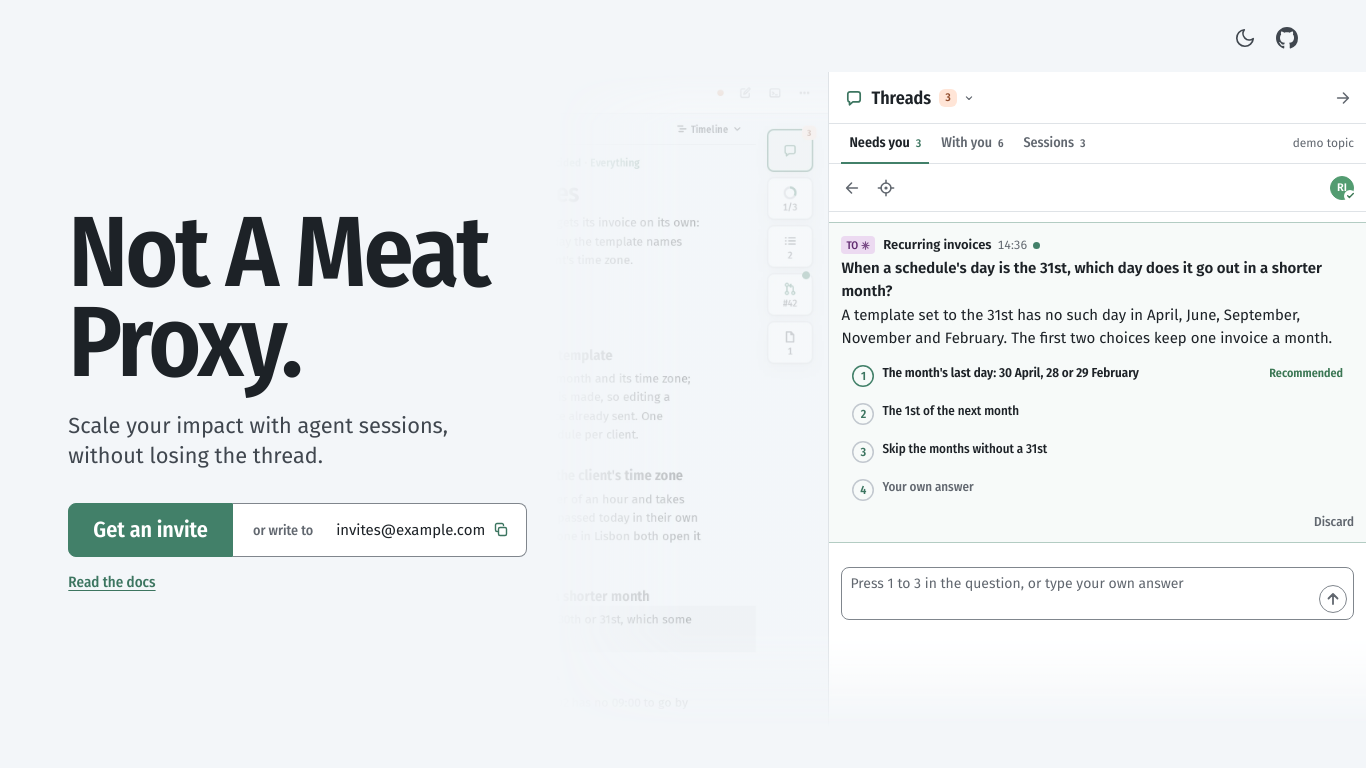
it: the drawer on the home page › once both are answered, the drawer shows what is left, the review, and the focus is on its title
Click the 1st button with class "choice". click: click(1098, 376)
box: [841,358,1354,394]
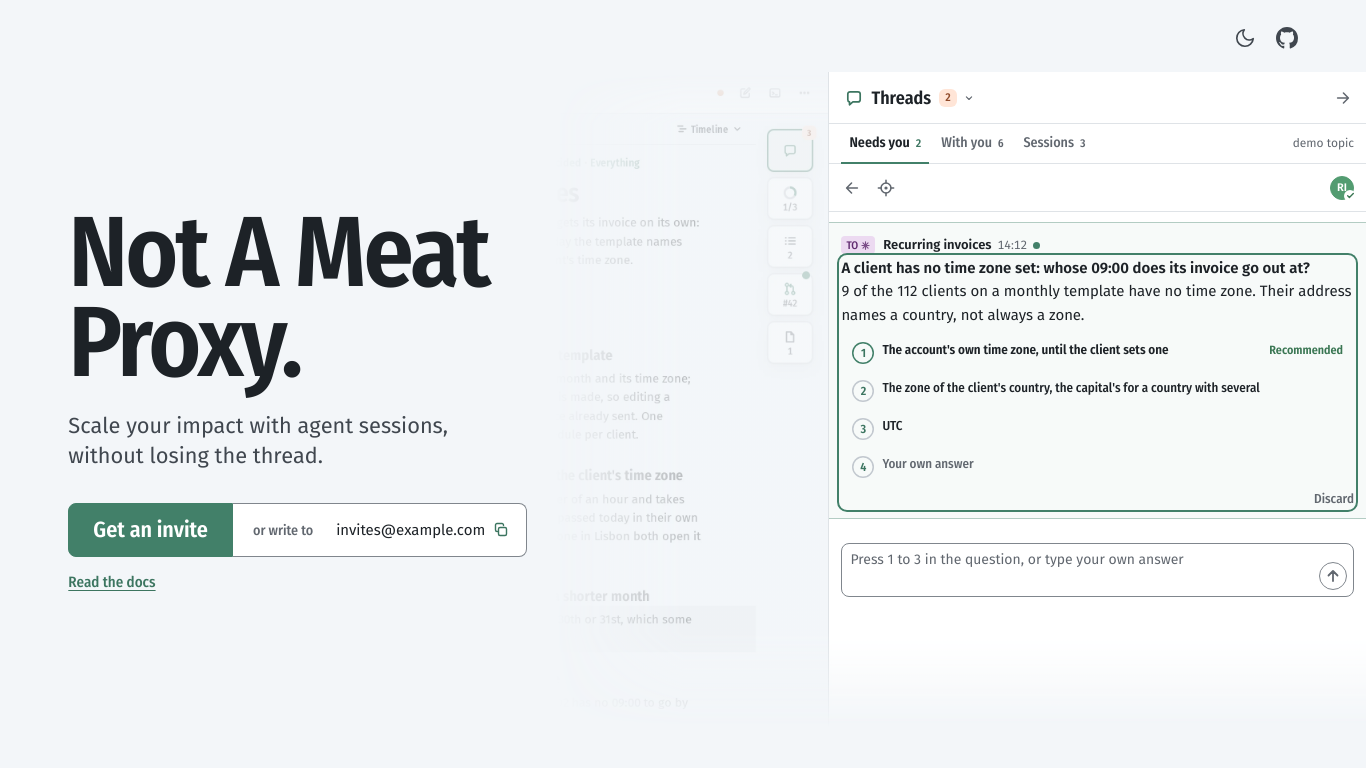
Expected: the element named "Question, Recurring invoices" has attribute data-question="no-time-zone", [841,257,1354,508]
Click the 1st button with class "choice". click: click(1098, 353)
box: [841,335,1354,371]
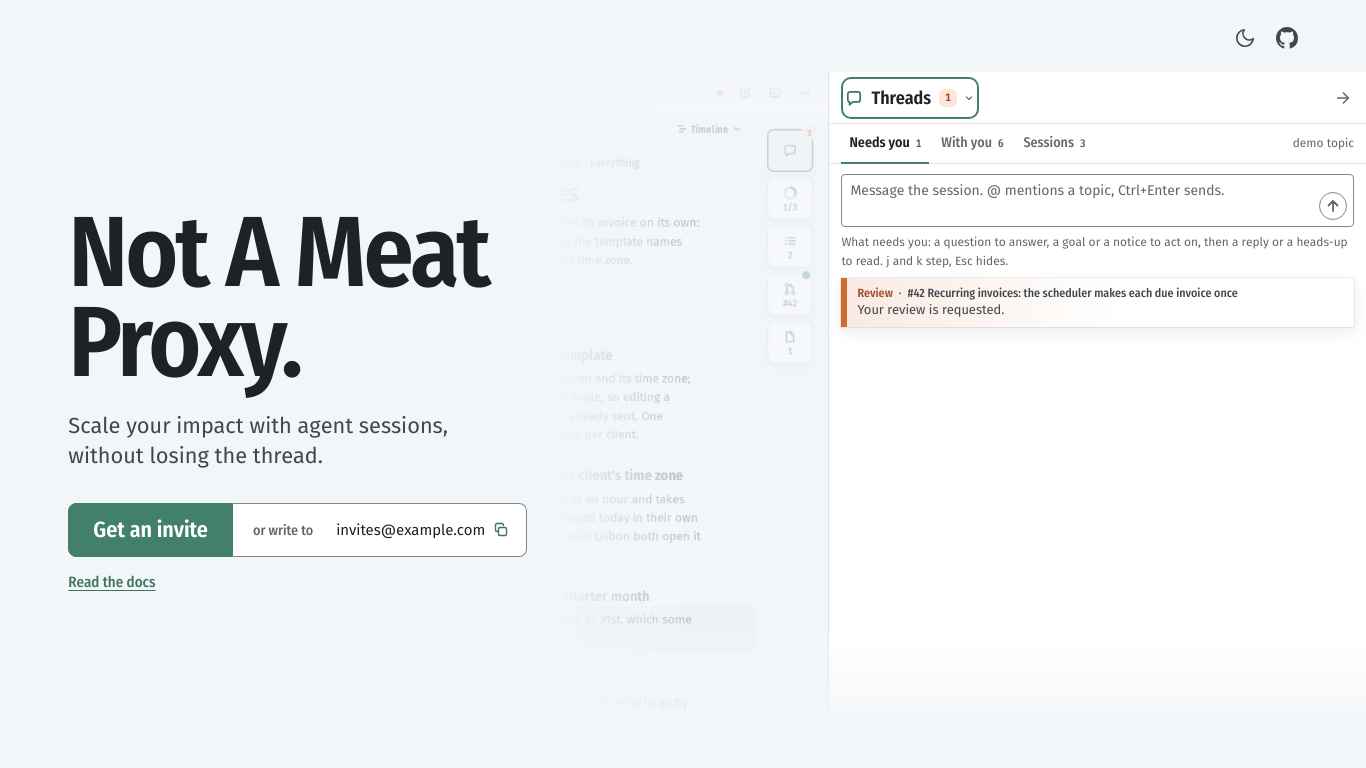
Expected: the element with class "thread-head" is gone
Expected: the element showing "Message the session. @ mentions a topic, Ctrl+Enter sends." is shown, [841,174,1354,227]
Expected: the element with class "where" reads "Review · #42 Recurring invoices: the scheduler makes each due invoice once", [857,286,1238,300]
